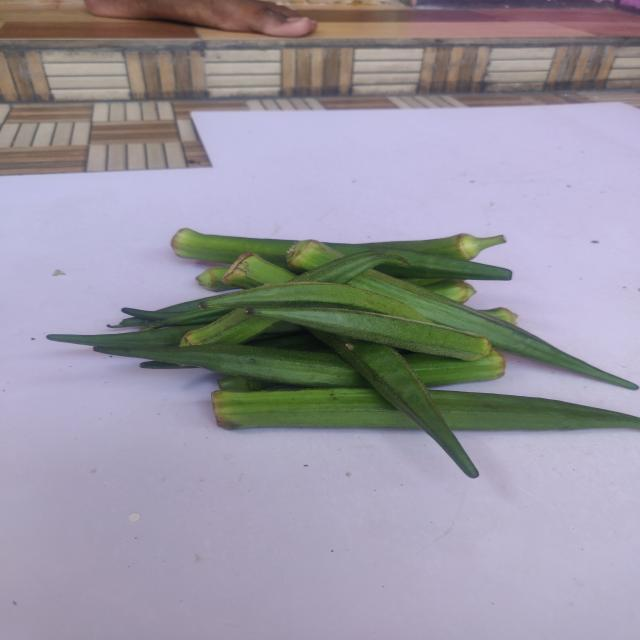Ladies Finger: (247, 308, 491, 361), (211, 388, 419, 430), (430, 391, 640, 431)
